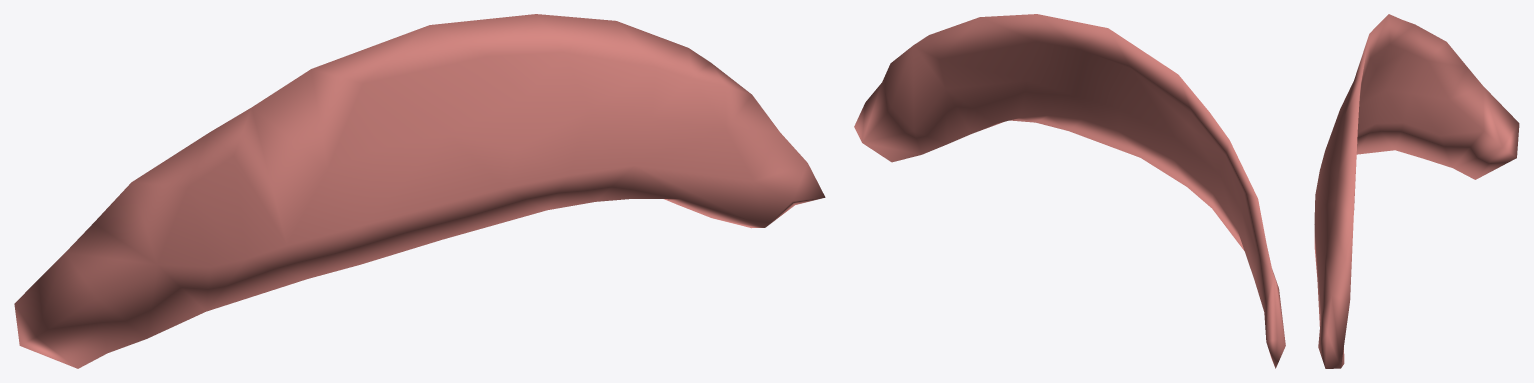
3 renders of one model, left to right at view 1: azimuth 30°, elevation 25°; view 2: azimuth 150°, elevation 25°; view 3: azimuth 270°, elevation 25°, orthographic. The views are drawn at different scales.
Parts seen in each view (by area): view 1: ZA_dac6056626cc89ff; view 2: ZA_dac6056626cc89ff; view 3: ZA_dac6056626cc89ff.
Boxes of the visible parts, x1,y1,x2,y2 form: ZA_dac6056626cc89ff: [14, 14, 825, 368]; ZA_dac6056626cc89ff: [854, 14, 1285, 368]; ZA_dac6056626cc89ff: [1314, 14, 1519, 368].
Bounding box in the file's own units: 0.0255 × 0.0114 × 0.00828.
